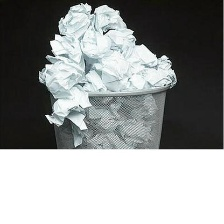tissue: (33, 0, 181, 149)
